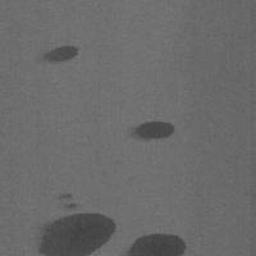Oil spot: (31, 192, 118, 256), (119, 232, 188, 256), (128, 119, 177, 143), (33, 44, 82, 67)
